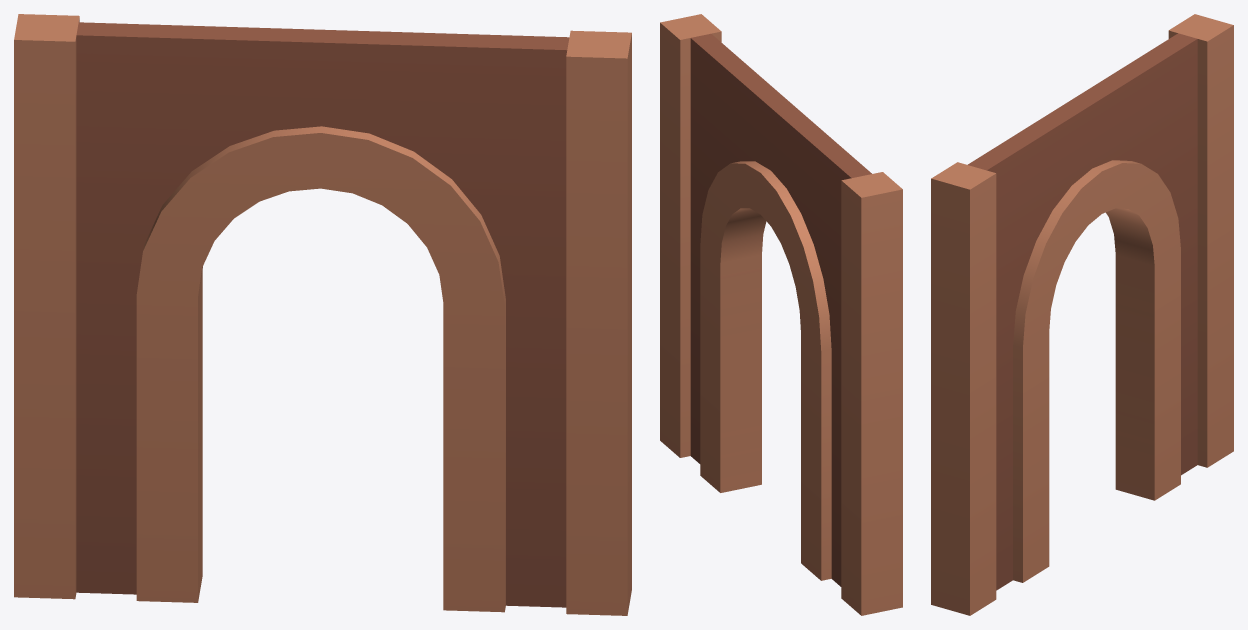
File: wall-wood-door.001_lev1.glb
3 views of the same model, side by side, from view 1: azimuth 30°, elevation 25°; view 2: azimuth 150°, elevation 25°; view 3: azimuth 270°, elevation 25° (orthographic). The views are drawn at different scales.
Visible parts, largest first — view 1: wall-wood-door.001_lev1; view 2: wall-wood-door.001_lev1; view 3: wall-wood-door.001_lev1.
Boxes of the visible parts, bbox=[...] form: wall-wood-door.001_lev1: bbox=[14, 14, 631, 615]; wall-wood-door.001_lev1: bbox=[660, 14, 902, 615]; wall-wood-door.001_lev1: bbox=[931, 14, 1233, 615].
Size of the model in its own units: 3.74 by 4.23 by 2.72.
Materials: 1 (1 with a texture image).
